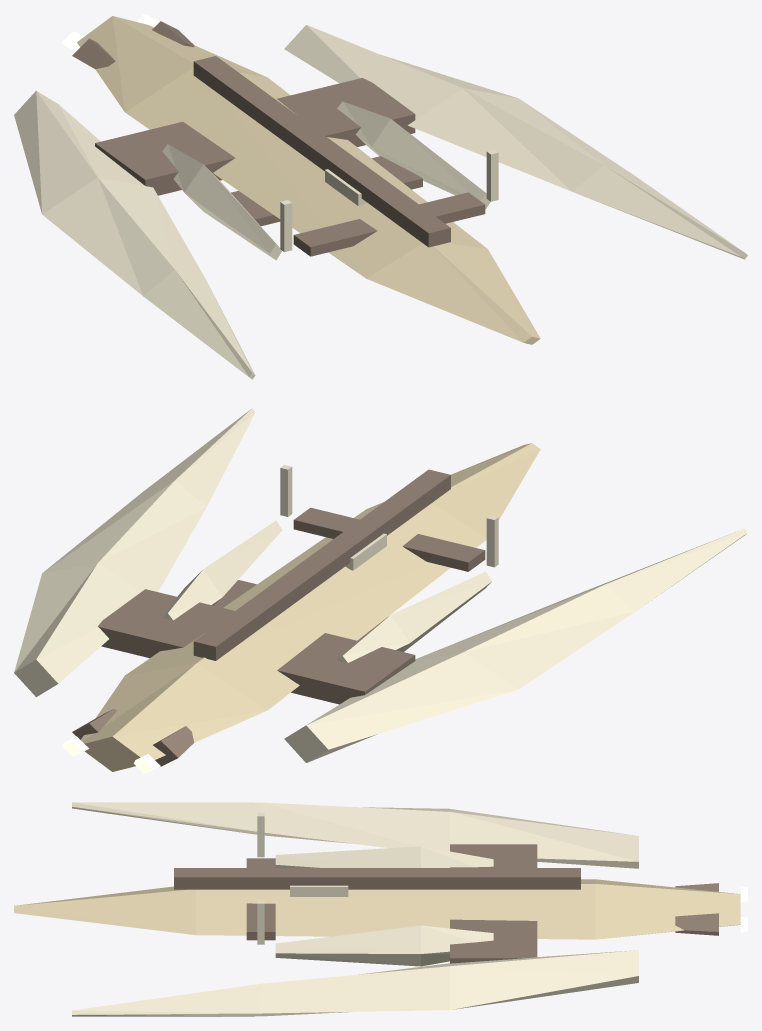
3 renders of one model, top to bottom at view 1: azimuth 30°, elevation 25°; view 2: azimuth 150°, elevation 25°; view 3: azimuth 270°, elevation 25°, orthographic. The views are drawn at different scales.
Bounding box in the file's own units: 7.41 × 1.26 × 10.91.
